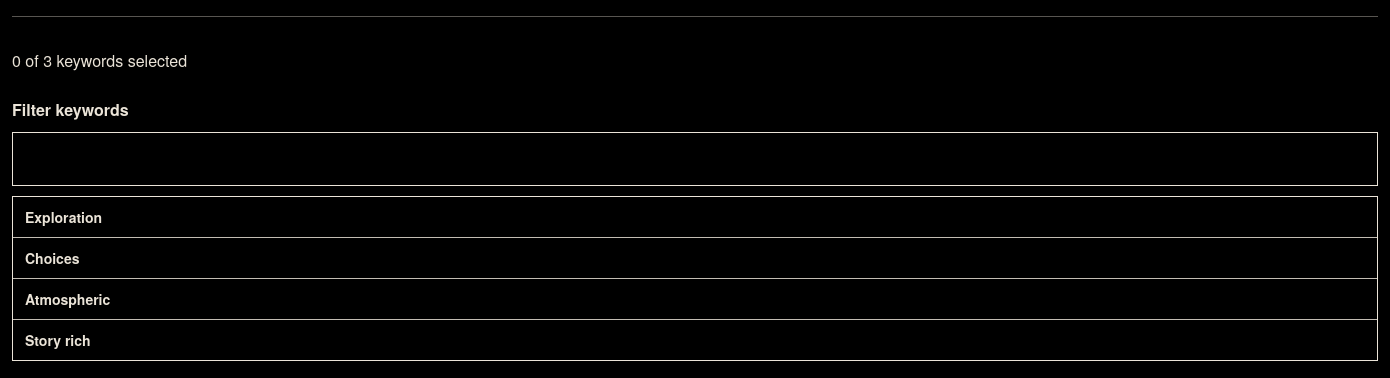
Test case: ReferenceKeywordAutocomplete › filters the visible cached list case-insensitively
Type "STORY" into the search field labelled "Filter keywords".
click(695, 159); type("STORY")  # box [12,132,1378,186]
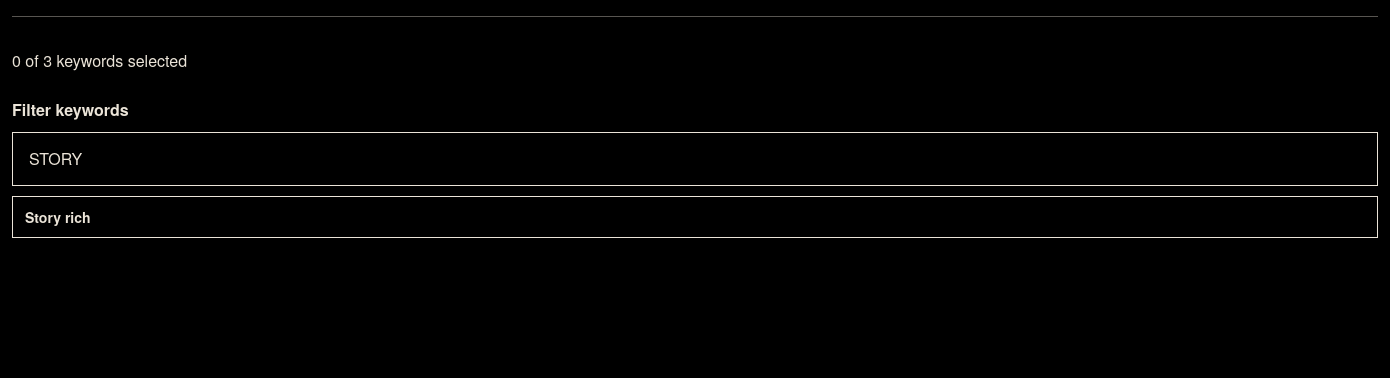
Expected: the button with aria-label "Select keyword Story rich" is shown, [13,197,1377,237]
Now the button "Exploration" is gone
